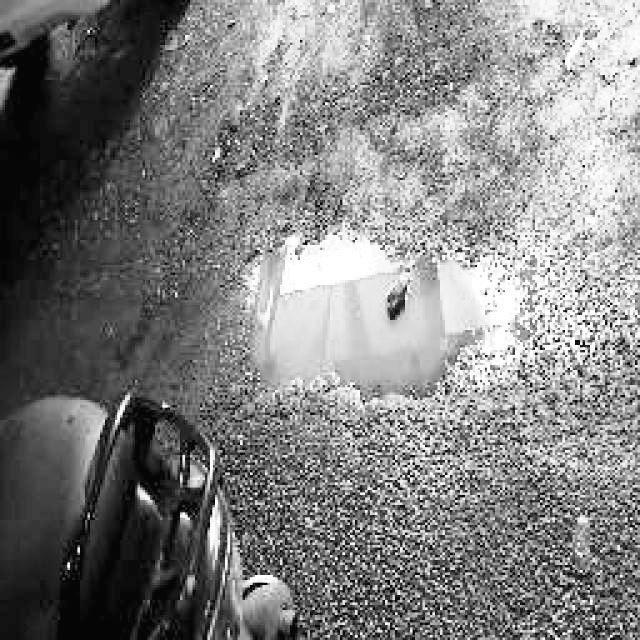Pothole: (196, 190, 538, 421)
